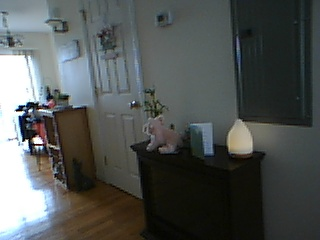piggy: (141, 115, 184, 154)
